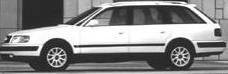front_view: (1, 32, 39, 61)
headlight: (9, 34, 32, 46)
side_glass: (88, 5, 203, 26)
